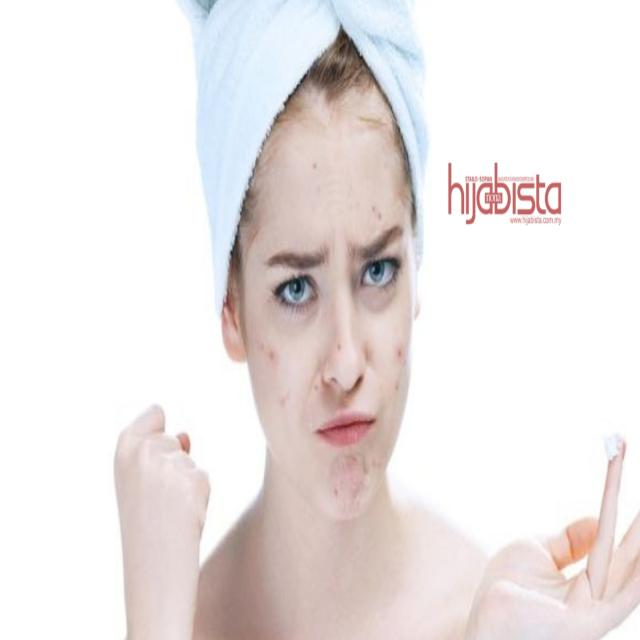Acne: (252, 322, 296, 416), (325, 456, 385, 517), (387, 339, 410, 403), (370, 200, 385, 222), (312, 161, 318, 171), (336, 344, 342, 354)
